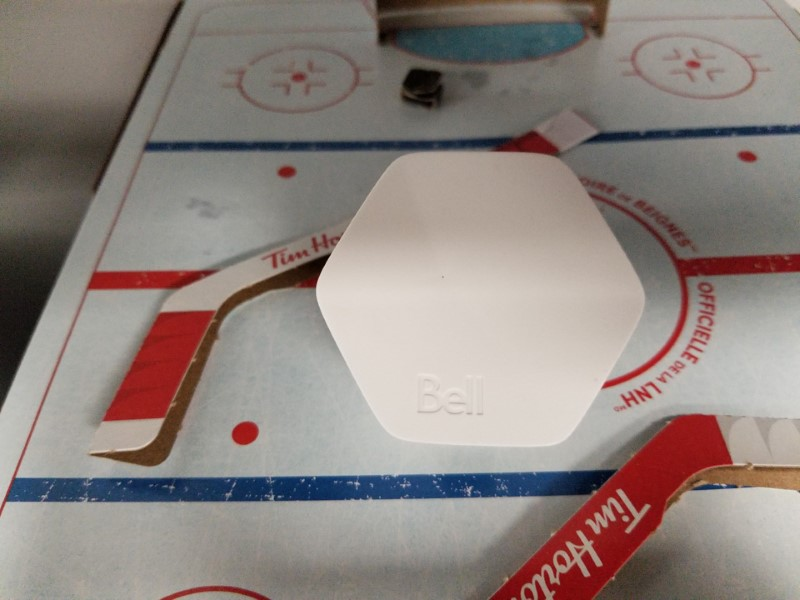pod: (312, 148, 660, 451)
